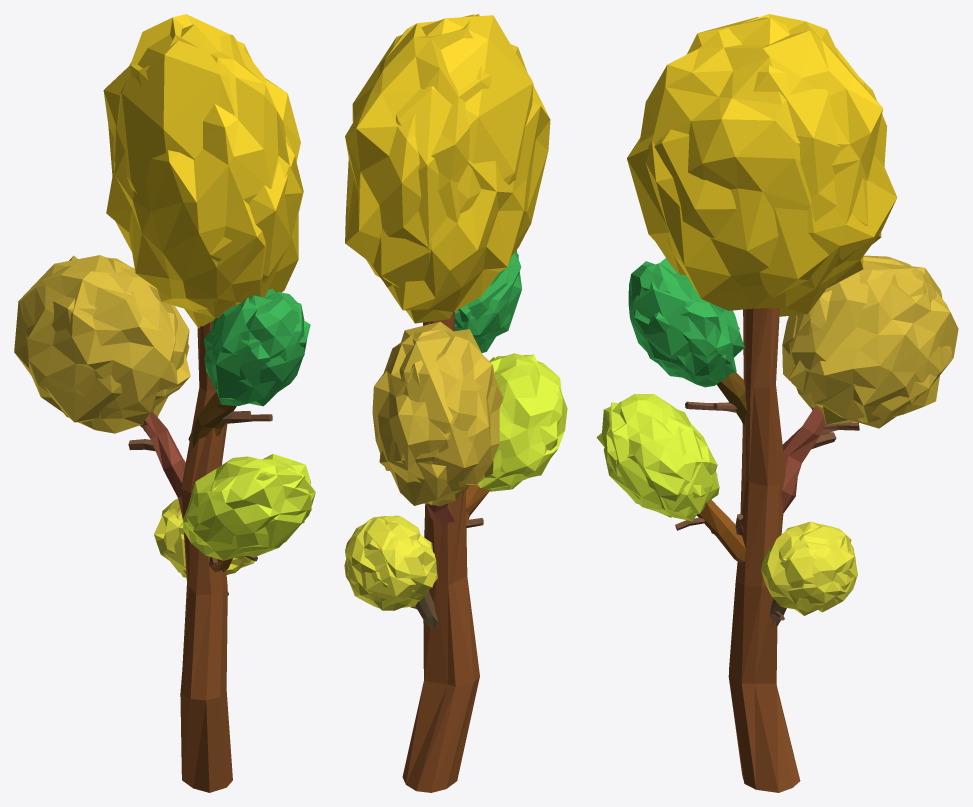
The model's file is TallTree1.fbx.
The picture shows the model from 3 angles, left to right: view 1: azimuth 30°, elevation 25°; view 2: azimuth 150°, elevation 25°; view 3: azimuth 270°, elevation 25°; orthographic projection.
Parts seen in each view (by area): view 1: GeneratedLeaves, GeneratedLeaves_3, LOD_Test_4, GeneratedBranch, GeneratedLeaves_4, LOD_Test_2, GeneratedLeaves_2, LOD_Test_1, LOD_Test_3, GeneratedBranch_3, GeneratedLeaves_1, GeneratedBranch_2 (+1 smaller); view 2: GeneratedLeaves, LOD_Test_4, GeneratedBranch, GeneratedLeaves_3, GeneratedLeaves_4, LOD_Test_2, GeneratedLeaves_1, LOD_Test, GeneratedLeaves_2, LOD_Test_1, LOD_Test_3, GeneratedBranch_1 (+2 smaller); view 3: GeneratedLeaves, GeneratedBranch, LOD_Test_4, GeneratedLeaves_3, GeneratedLeaves_4, LOD_Test_2, GeneratedLeaves_2, GeneratedLeaves_1, LOD_Test_3, LOD_Test_1, LOD_Test, GeneratedBranch_3 (+2 smaller).
Boxes of the visible parts, bbox=[...] form: GeneratedLeaves: bbox=[103, 14, 302, 328]; GeneratedLeaves_3: bbox=[20, 255, 190, 433]; LOD_Test_4: bbox=[113, 24, 303, 318]; GeneratedBranch: bbox=[180, 320, 232, 792]; GeneratedLeaves_4: bbox=[183, 454, 311, 560]; LOD_Test_2: bbox=[14, 255, 189, 422]; GeneratedLeaves_2: bbox=[204, 288, 310, 405]; LOD_Test_1: bbox=[204, 295, 304, 406]; LOD_Test_3: bbox=[186, 469, 315, 553]; GeneratedBranch_3: bbox=[141, 411, 185, 519]; GeneratedLeaves_1: bbox=[154, 498, 254, 577]; GeneratedBranch_2: bbox=[188, 392, 236, 448]; GeneratedLeaves: bbox=[345, 14, 550, 323]; LOD_Test_4: bbox=[346, 15, 533, 288]; GeneratedBranch: bbox=[402, 312, 479, 792]; GeneratedLeaves_3: bbox=[372, 323, 503, 506]; GeneratedLeaves_4: bbox=[476, 353, 567, 491]; LOD_Test_2: bbox=[379, 321, 493, 505]; GeneratedLeaves_1: bbox=[344, 515, 436, 610]; LOD_Test: bbox=[347, 517, 437, 605]; GeneratedLeaves_2: bbox=[454, 252, 521, 352]; LOD_Test_1: bbox=[455, 250, 521, 340]; LOD_Test_3: bbox=[483, 354, 558, 489]; GeneratedBranch_1: bbox=[415, 591, 438, 630]; GeneratedLeaves: bbox=[639, 14, 897, 316]; GeneratedBranch: bbox=[728, 308, 800, 792]; LOD_Test_4: bbox=[627, 17, 881, 297]; GeneratedLeaves_3: bbox=[782, 255, 958, 424]; GeneratedLeaves_4: bbox=[596, 394, 719, 521]; LOD_Test_2: bbox=[789, 260, 951, 428]; GeneratedLeaves_2: bbox=[628, 261, 744, 387]; GeneratedLeaves_1: bbox=[761, 521, 856, 615]; LOD_Test_3: bbox=[603, 402, 717, 514]; LOD_Test_1: bbox=[630, 258, 739, 382]; LOD_Test: bbox=[780, 526, 857, 612]; GeneratedBranch_3: bbox=[780, 406, 825, 513].
Size of what is drawn, in the model's own units: 584 by 2282 by 990.
